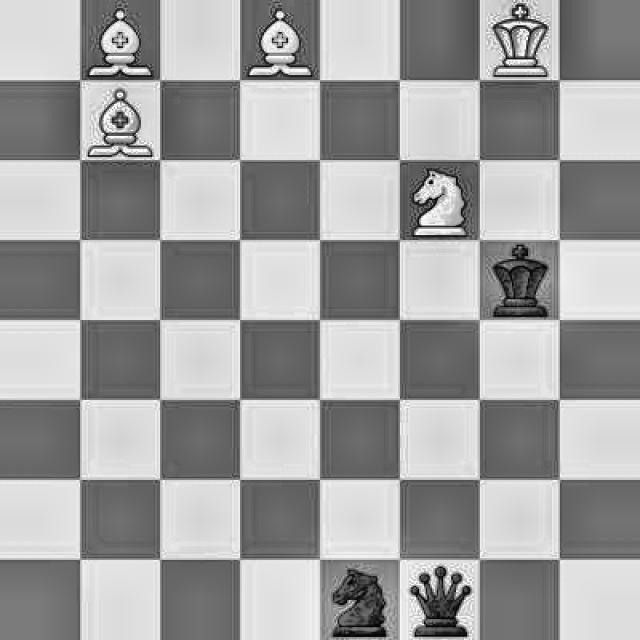Black Knight: (324, 564, 398, 636)
black king: (482, 241, 550, 317)
black queen: (404, 563, 479, 640)
white bishop: (242, 1, 315, 80), (88, 85, 156, 159), (92, 6, 156, 80)
white king: (485, 2, 557, 78)
whiteknight: (405, 165, 467, 239)
